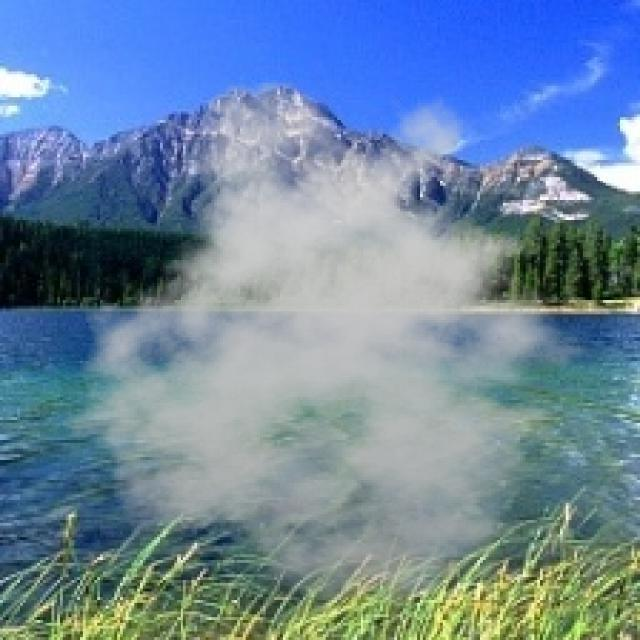Smoke: (52, 77, 618, 606)
